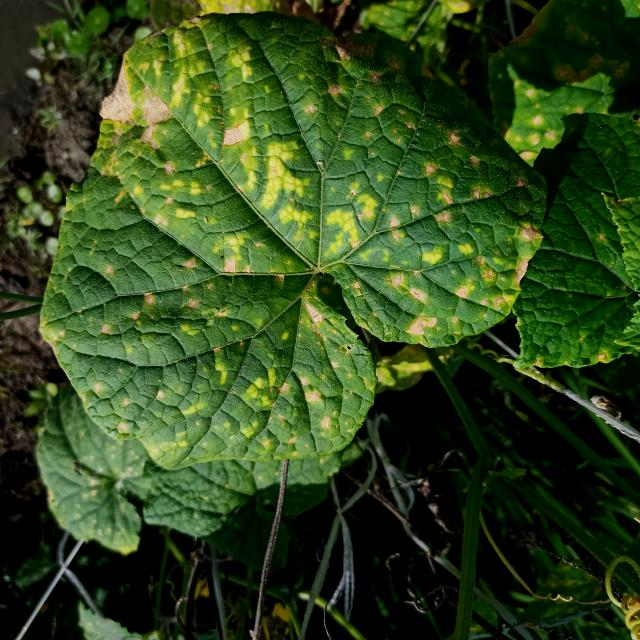disease_cucumber: (69, 29, 544, 457)
